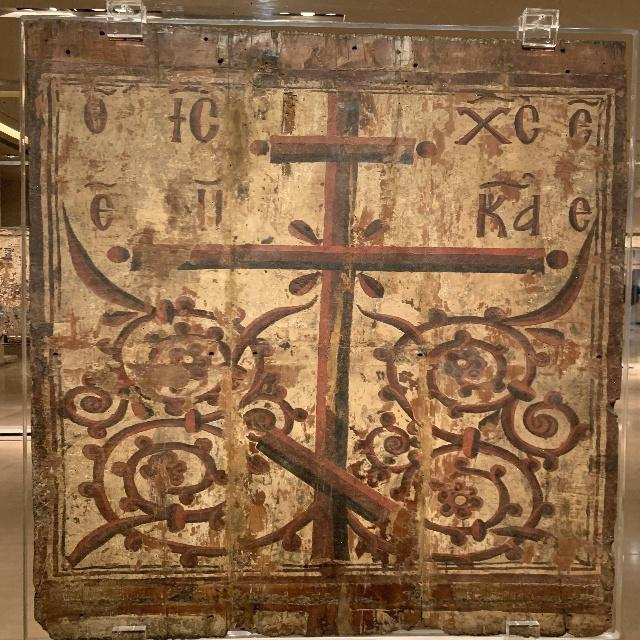cross: (131, 86, 549, 572)
